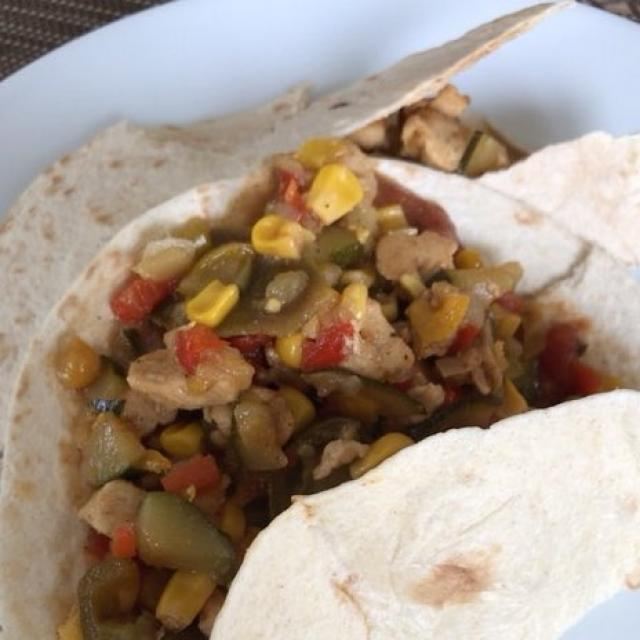bread: (12, 19, 634, 640)
ratatouille: (50, 214, 620, 620)
sweet-corn-canned: (153, 144, 415, 628)
